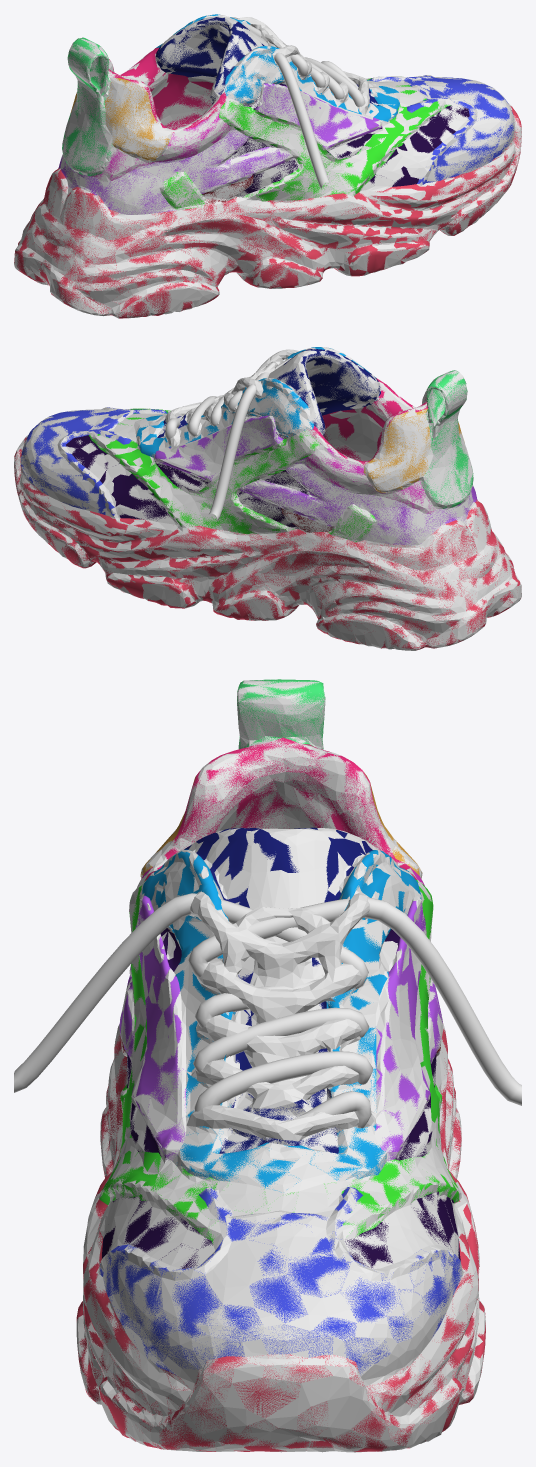
Rendered from shoes_material_config.glb.
3 renders of one model, top to bottom at view 1: azimuth 30°, elevation 25°; view 2: azimuth 150°, elevation 25°; view 3: azimuth 270°, elevation 25°, orthographic. The views are drawn at different scales.
Visible parts, largest first — view 1: All, sohle, seiten, seiten-hinter, vorne, schnuehsenkel, schuhzuenge, hinter-oben, innen, unten, vorne-oben, hinter (+1 smaller); view 2: All, sohle, seiten-hinter, seiten, vorne, unten, schuhzuenge, schnuehsenkel, hinter-oben, vorne-oben, hinter, innen (+1 smaller); view 3: All, schnuehsenkel, sohle, vorne, vorne-oben, seiten-hinter, innen, seiten, schuhzuenge, unten, hinter-oben.
Boxes of the visible parts, <box> form: All: <box>14,15,521,318</box>; sohle: <box>14,106,521,318</box>; seiten: <box>161,78,450,209</box>; seiten-hinter: <box>58,83,381,214</box>; vorne: <box>369,75,513,184</box>; schnuehsenkel: <box>232,17,365,189</box>; schuhzuenge: <box>156,17,378,105</box>; hinter-oben: <box>62,37,112,176</box>; innen: <box>108,47,226,132</box>; unten: <box>230,83,469,197</box>; vorne-oben: <box>156,14,399,121</box>; hinter: <box>70,78,170,160</box>; All: <box>14,347,521,650</box>; sohle: <box>14,437,520,649</box>; seiten-hinter: <box>155,415,477,545</box>; seiten: <box>89,408,376,542</box>; vorne: <box>21,407,166,515</box>; unten: <box>66,432,310,529</box>; schuhzuenge: <box>157,349,380,437</box>; schnuehsenkel: <box>165,358,291,521</box>; hinter-oben: <box>421,370,473,508</box>; vorne-oben: <box>136,347,375,457</box>; hinter: <box>363,409,462,492</box>; innen: <box>309,378,427,464</box>; All: <box>76,680,485,1452</box>; schnuehsenkel: <box>14,893,521,1133</box>; sohle: <box>76,1029,485,1451</box>; vorne: <box>100,1187,461,1375</box>; vorne-oben: <box>142,849,421,1192</box>; seiten-hinter: <box>119,895,442,1160</box>; innen: <box>145,737,416,880</box>; seiten: <box>99,879,459,1244</box>; schuhzuenge: <box>184,827,372,1153</box>; unten: <box>102,928,460,1268</box>; hinter-oben: <box>237,679,325,749</box>.
Bounding box in the file's own units: 1.96 × 0.9948 × 0.9653.
